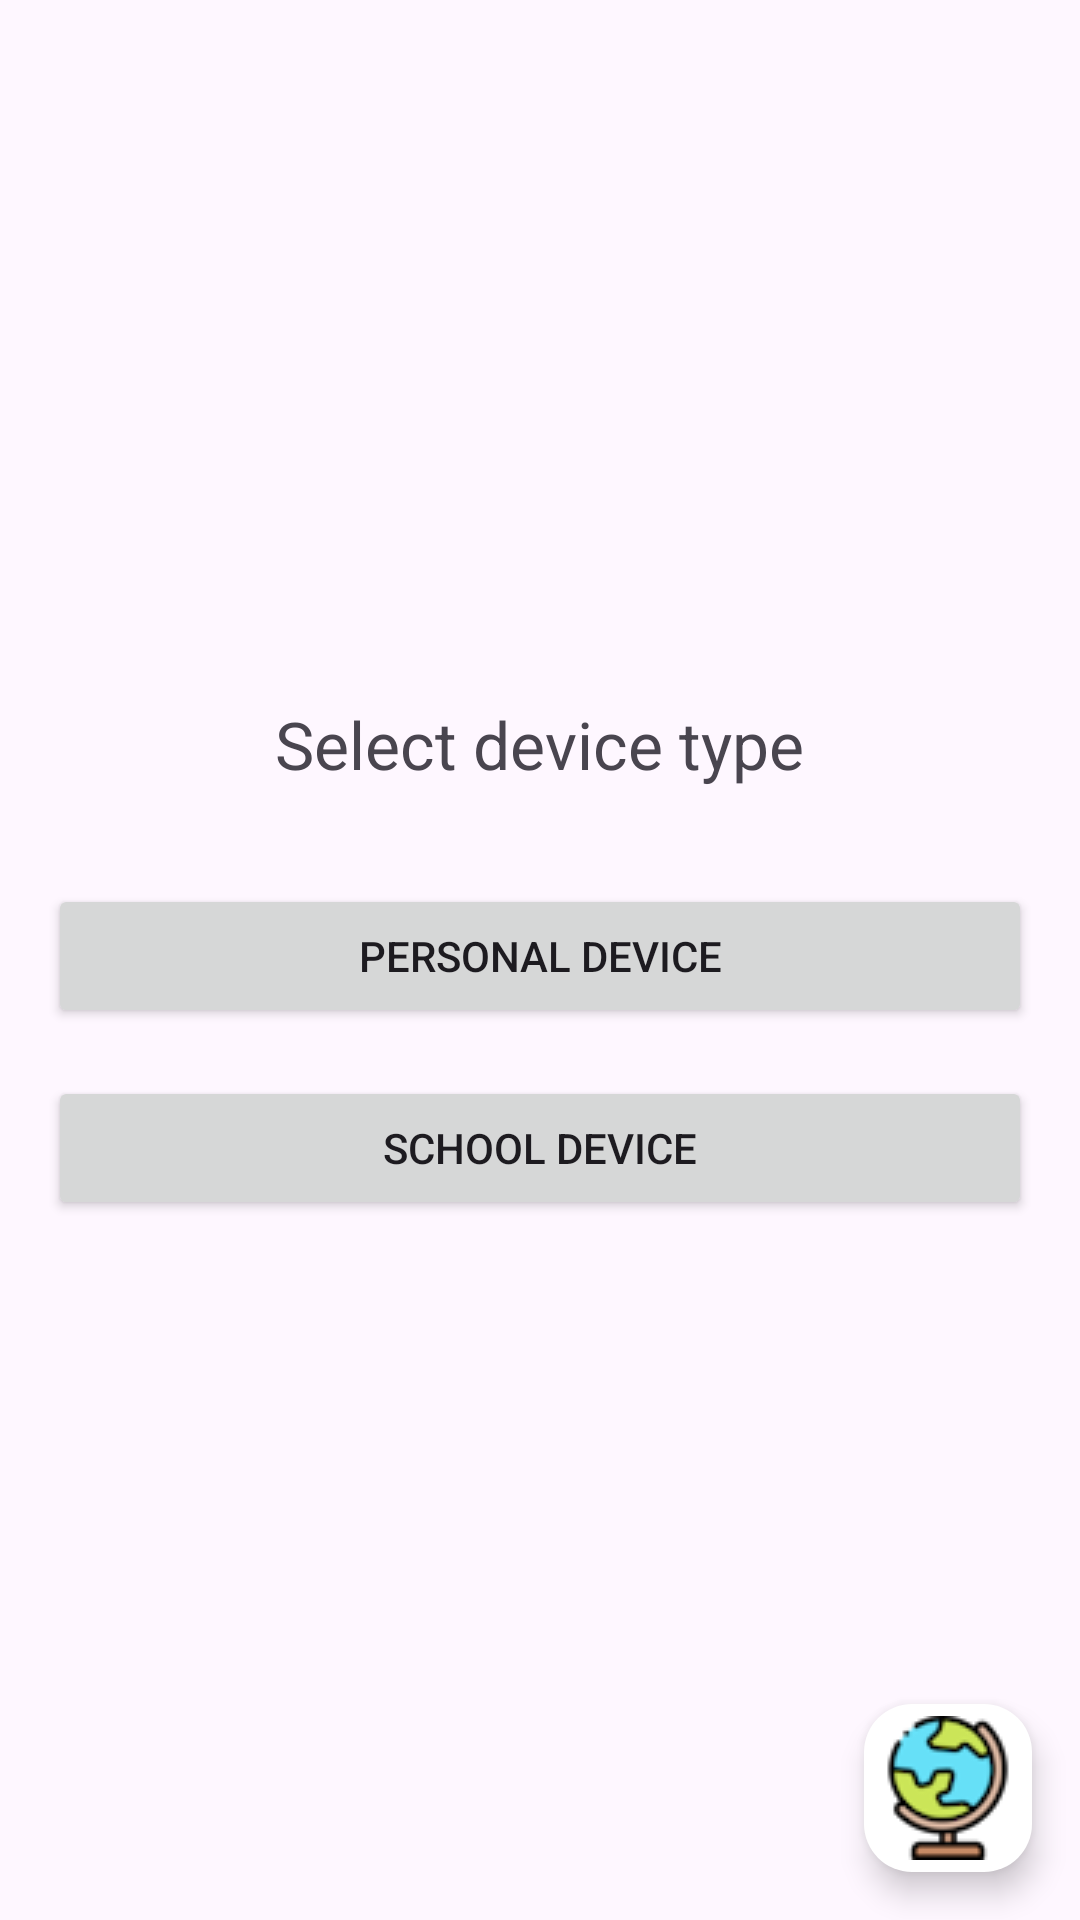

Where to tap for icons on this 1080px×1920px app screen, as [x,y]:
globus: [948,1788]
